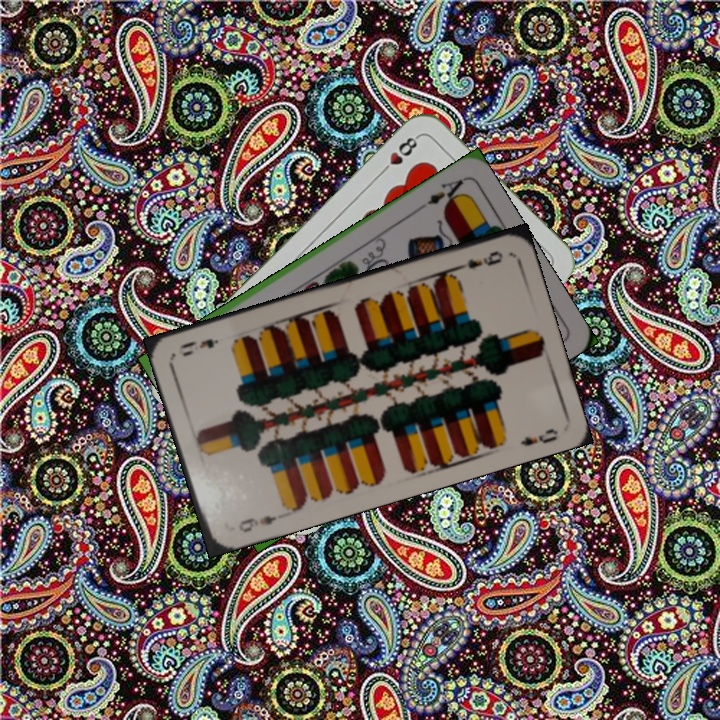E9: (451, 247, 506, 273), (234, 511, 279, 535)
EA: (415, 174, 468, 212)
H8: (376, 131, 422, 177)
